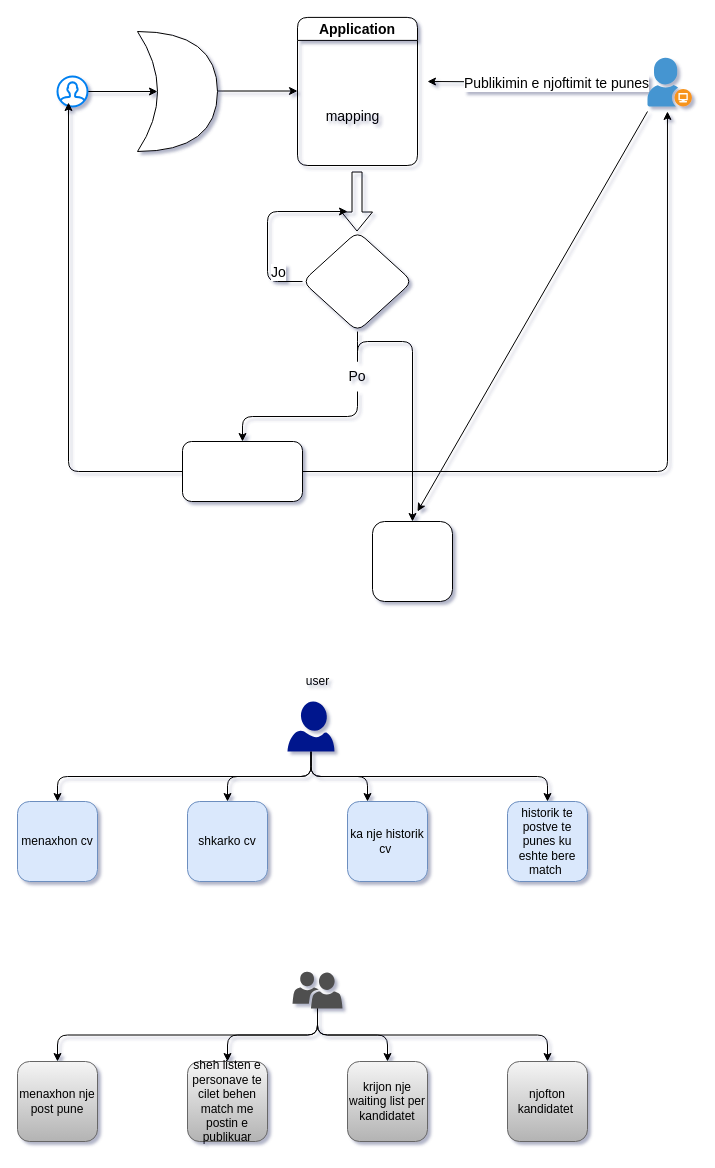
The diagram is 715 pixels wide and 1168 high, and some of its shapes have lost their labels. The centre of each missing label's shape, as x and y in pixels:
behet match cv-post pune: point (357, 281)
cv favorite list: point (177, 91)
Notification: point (242, 471)
waiting list: point (412, 561)
